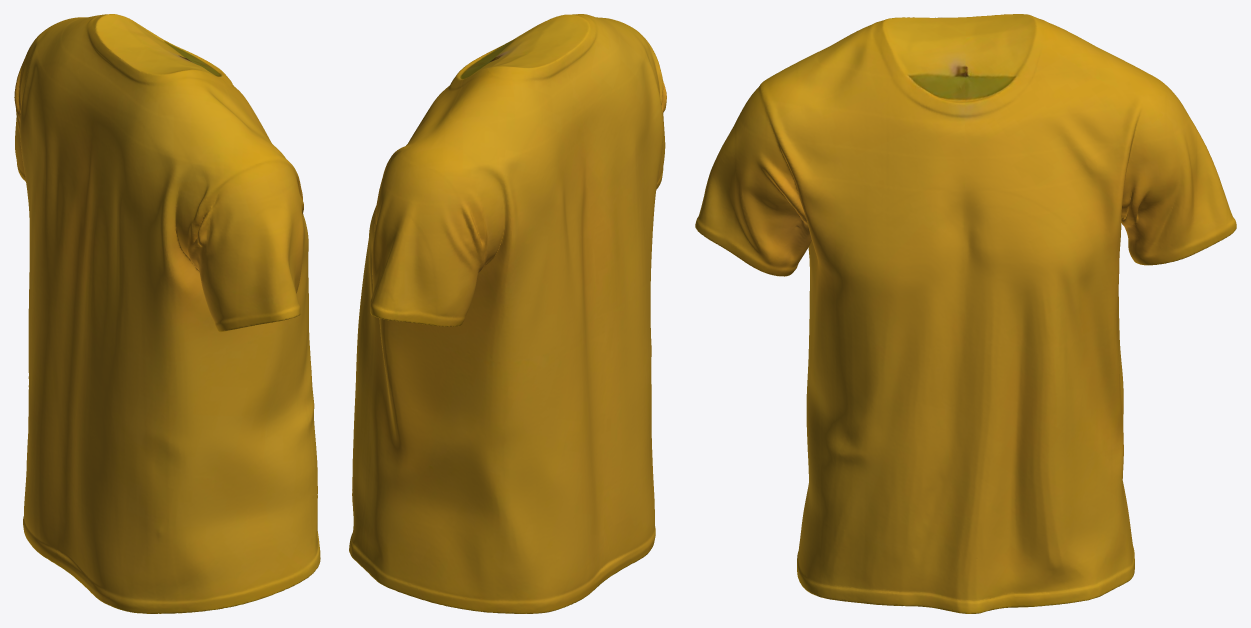
File: test_template.glb
3 renders of one model, left to right at view 1: azimuth 30°, elevation 25°; view 2: azimuth 150°, elevation 25°; view 3: azimuth 270°, elevation 25°, orthographic. The views are drawn at different scales.
Parts seen in each view (by area): view 1: tripo_node_b52b1afb-ed48-44c8-affd-84943a3ad084; view 2: tripo_node_b52b1afb-ed48-44c8-affd-84943a3ad084; view 3: tripo_node_b52b1afb-ed48-44c8-affd-84943a3ad084.
Boxes of the visible parts, left/top/right/bottom form: tripo_node_b52b1afb-ed48-44c8-affd-84943a3ad084: left=14, top=14, right=320, bottom=613; tripo_node_b52b1afb-ed48-44c8-affd-84943a3ad084: left=349, top=14, right=666, bottom=613; tripo_node_b52b1afb-ed48-44c8-affd-84943a3ad084: left=695, top=14, right=1236, bottom=613.
Bounding box in the file's own units: 0.4754 × 1 × 0.9095.
1 material, 1 textured.
